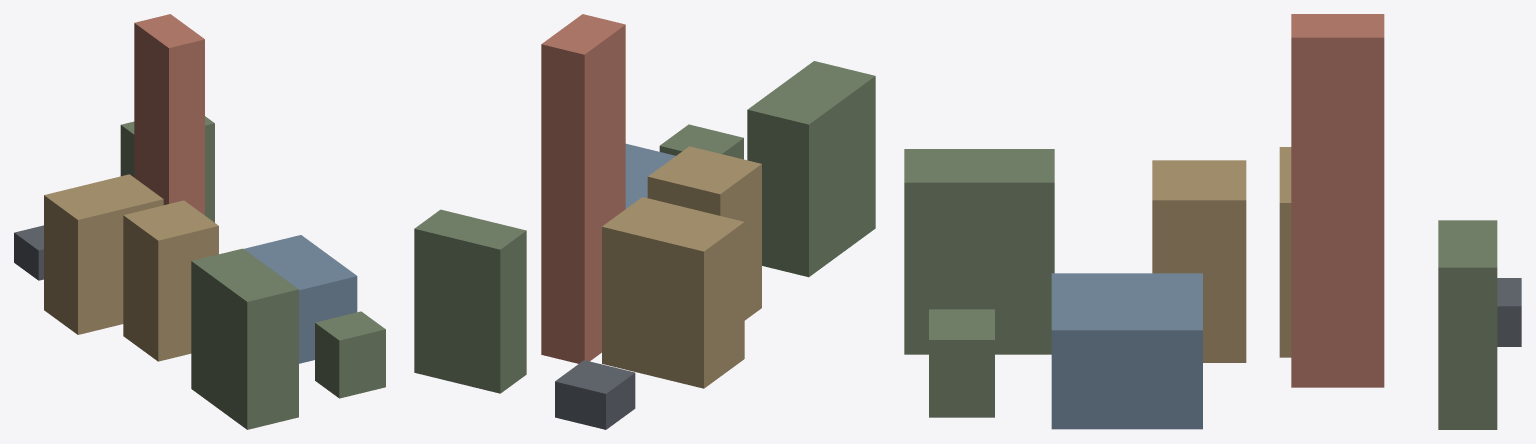
File: synth-01-07.lod2.glb
3 views of the same model, side by side, from view 1: azimuth 30°, elevation 25°; view 2: azimuth 150°, elevation 25°; view 3: azimuth 270°, elevation 25° (orthographic). The views are drawn at different scales.
Parts seen in each view (by area): view 1: synth-01-07; view 2: synth-01-07; view 3: synth-01-07.
Part boxes in pixels (box(x1,y1,x2,y2)): synth-01-07: box(14, 14, 385, 429); synth-01-07: box(414, 14, 875, 429); synth-01-07: box(904, 14, 1521, 429).
Bounding box in the file's own units: 43.45 × 55.18 × 88.17.
